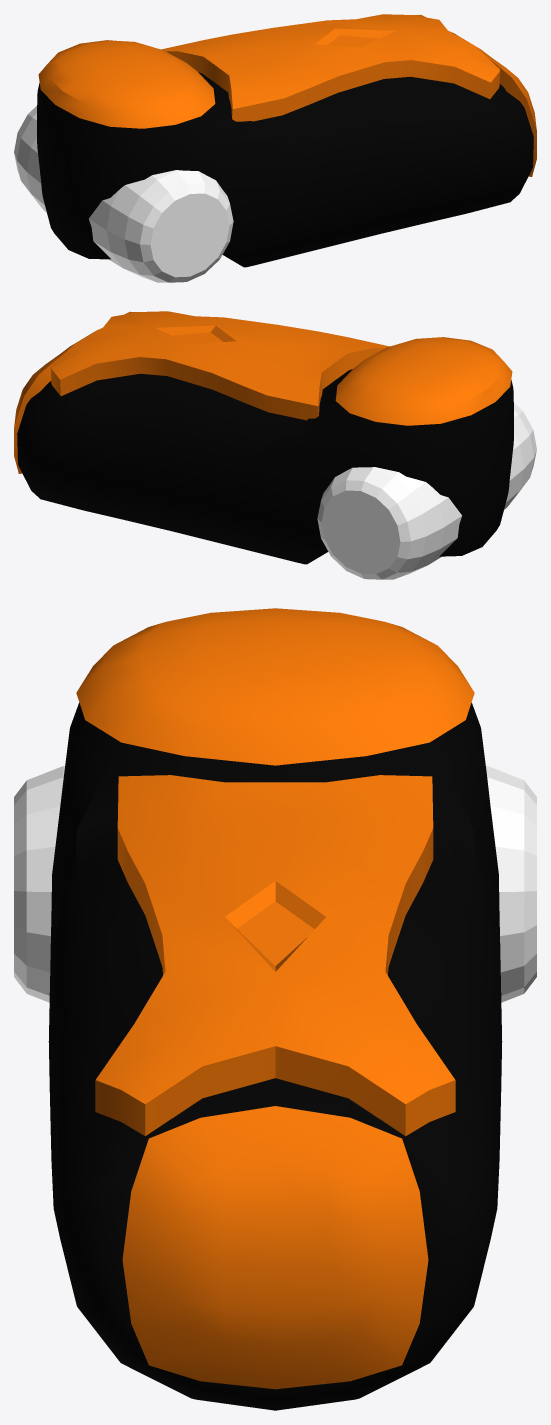
The model's file is new_simHand_id11.fbx.
3 views of the same model, one above another, from view 1: azimuth 30°, elevation 25°; view 2: azimuth 150°, elevation 25°; view 3: azimuth 270°, elevation 25° (orthographic). The views are drawn at different scales.
Visible parts, largest first — view 1: Cube.006, Cylinder.001; view 2: Cube.006, Cylinder.001; view 3: Cube.006, Cylinder.001.
Part boxes in pixels (box(x1,y1,x2,y2)): Cube.006: box(37, 14, 536, 267); Cylinder.001: box(14, 106, 233, 282); Cube.006: box(14, 311, 513, 564); Cylinder.001: box(317, 403, 536, 579); Cube.006: box(48, 608, 502, 1410); Cylinder.001: box(14, 765, 536, 1002).
Bounding box in the file's own units: 55.69 × 25.39 × 27.88.
